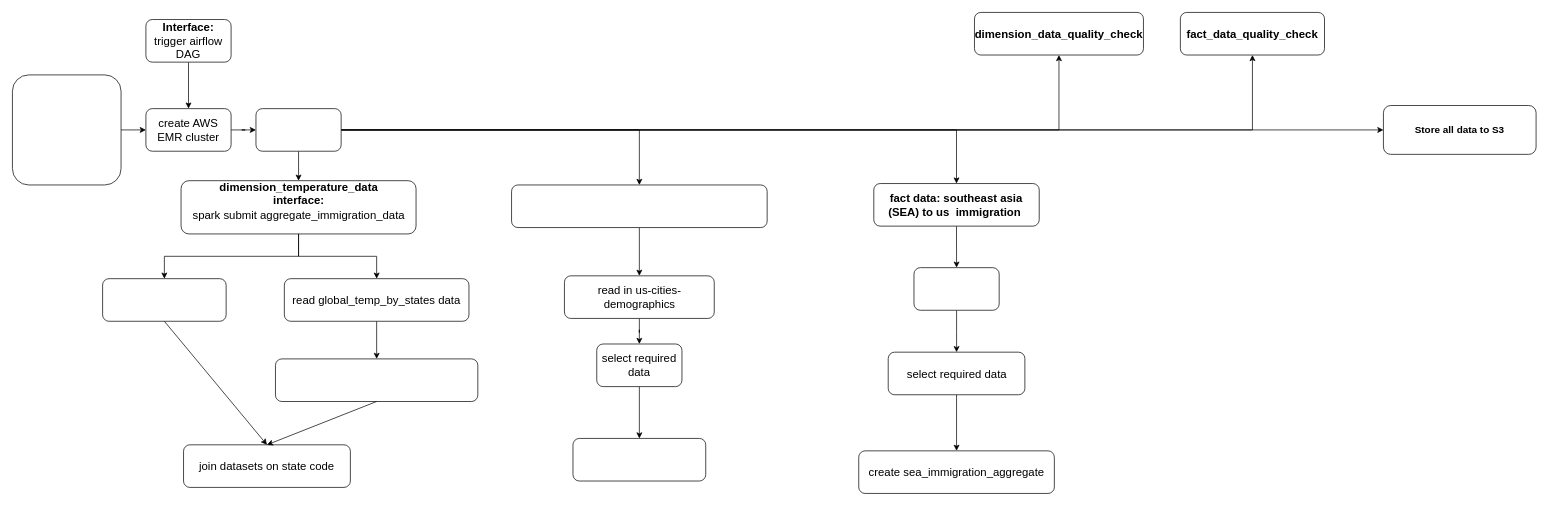
This 1549x506 diagram has some shape labels left out. Here are the shapes that lost their labels. From the top down, the centre of each, then its label:
At (66,129): "Convert SAS file into json file on the local (If all the files aren't on S3)".
At (298,129): "spark".
At (639,206): "dimension_us_states_demographics_data interface: spark submit aggregate".
At (164,299): "read in us cities data".
At (956,288): "read in all files *.json".
At (376,380): "filter on united states and select the recent year (2013)".
At (639,459): "create states_asian_aggregate".
